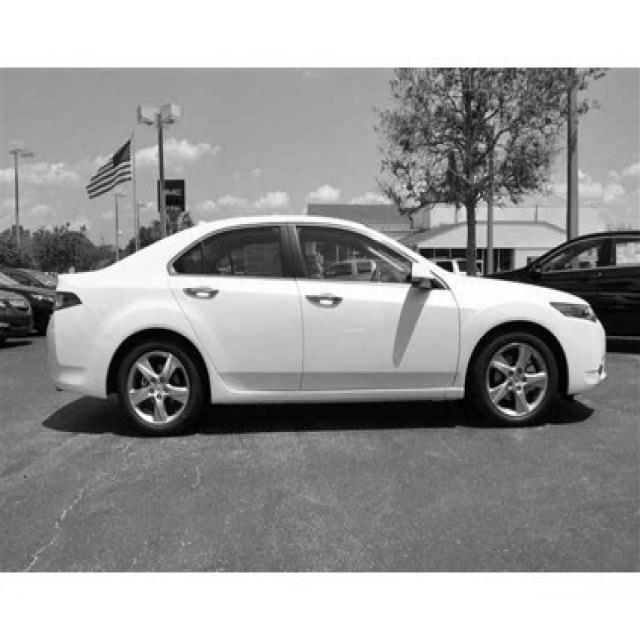car: (44, 214, 607, 436), (483, 228, 639, 356)
